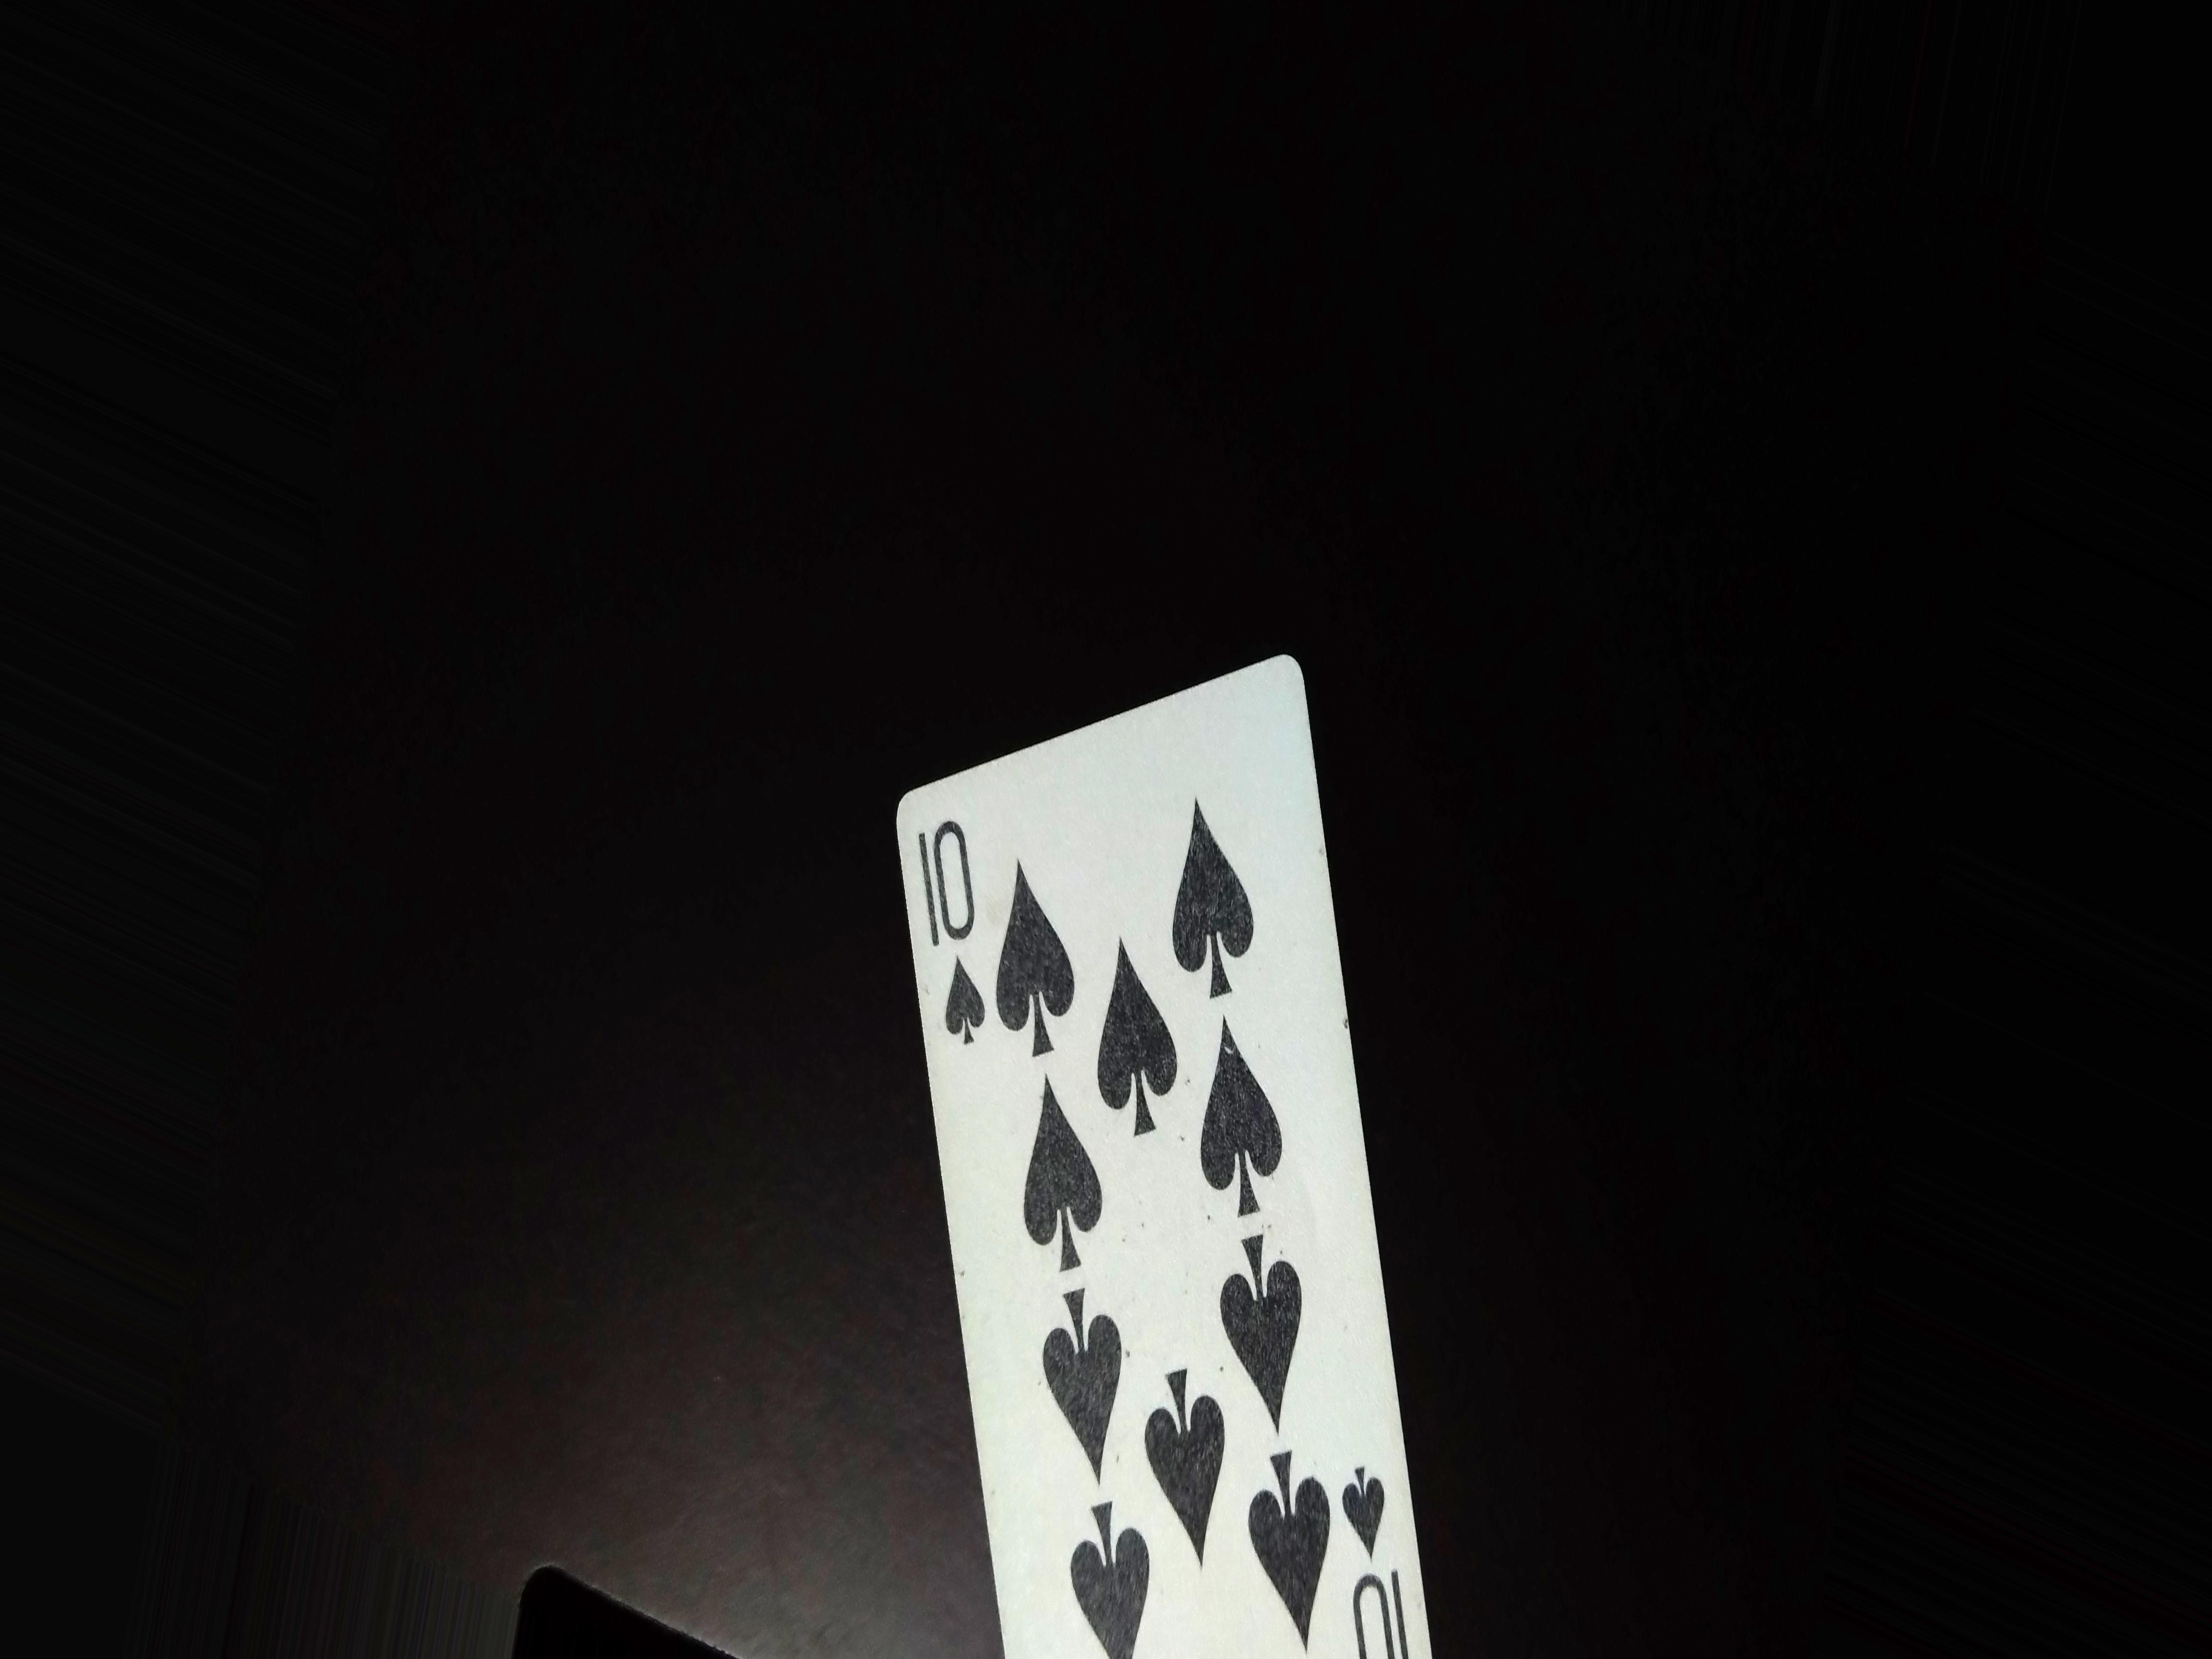10S: (911, 805, 991, 1079)
